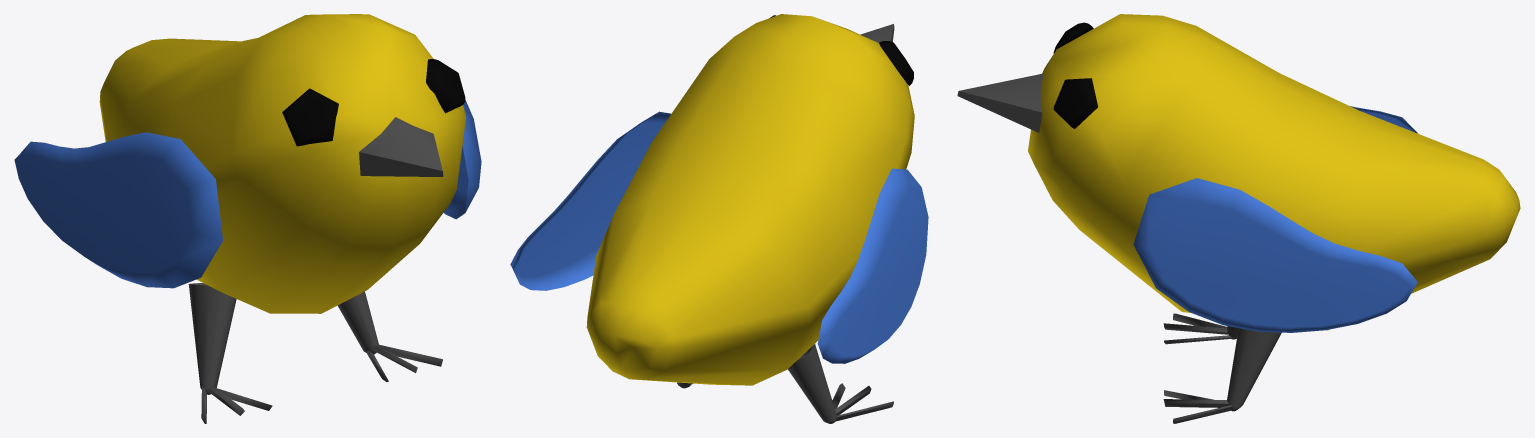
The model's file is bird 1 (vertex).fbx.
The picture shows the model from 3 angles, left to right: view 1: azimuth 30°, elevation 25°; view 2: azimuth 150°, elevation 25°; view 3: azimuth 270°, elevation 25°; orthographic projection. The views are drawn at different scales.
Visible parts, largest first — view 1: bird1; view 2: bird1; view 3: bird1.
Part boxes in pixels (x1=…): bird1: x1=14, y1=14, x2=481, y2=423; bird1: x1=510, y1=14, x2=928, y2=423; bird1: x1=957, y1=14, x2=1520, y2=423.
Bounding box in the file's own units: 27.82 × 28.69 × 41.62.
